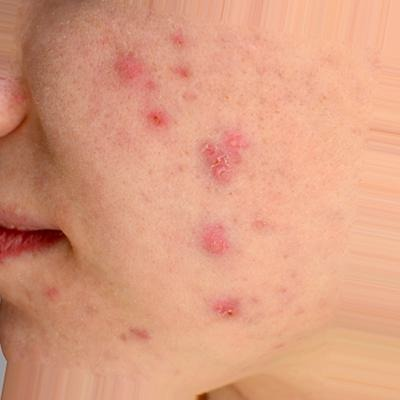Acne: (101, 37, 272, 331)
